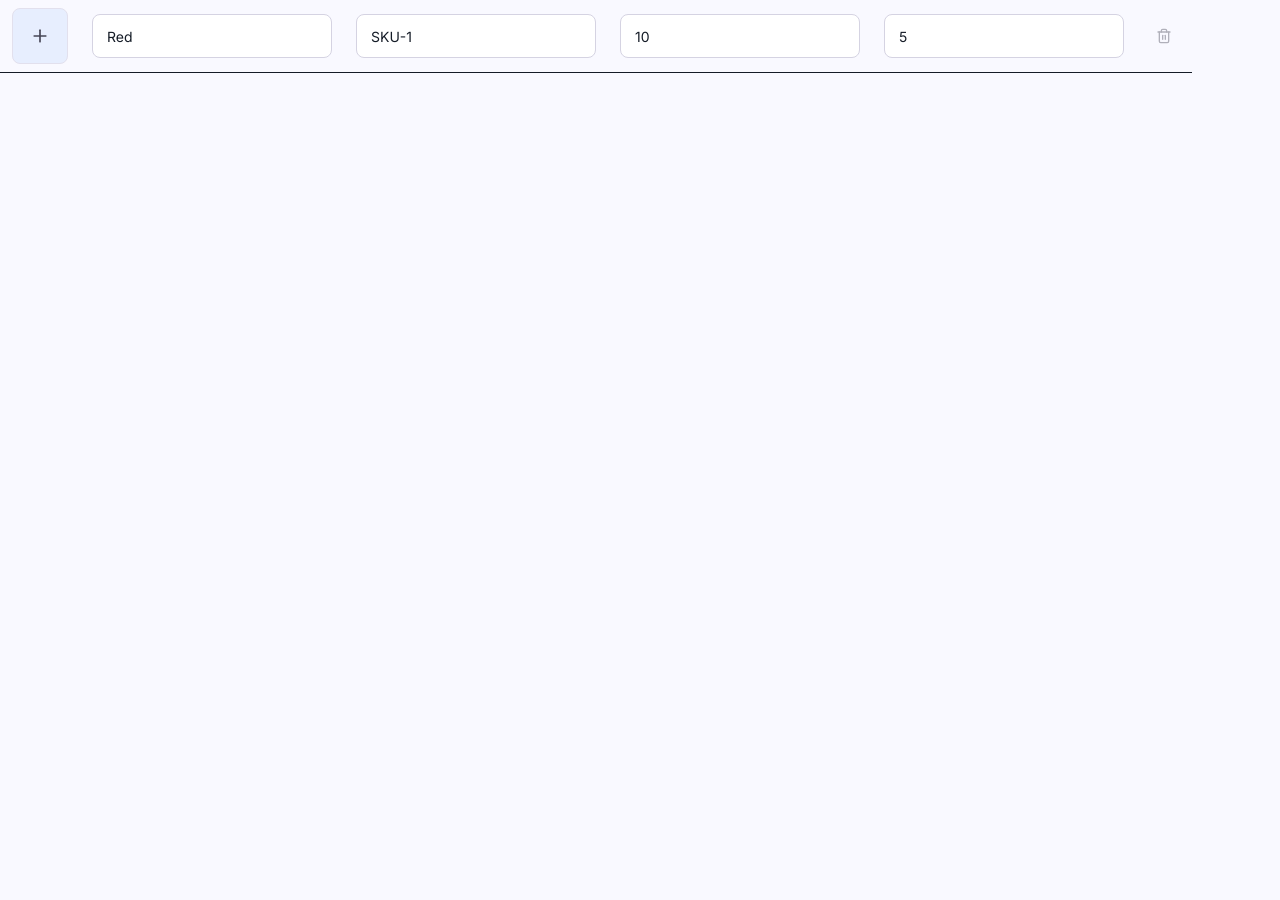
it: VariantRow › opens ImageUploadPopup in create mode and displays upload on creation notice
The image size is (1280, 900).
Click the button named "manage images" at (40, 36), box [12,8,68,64]
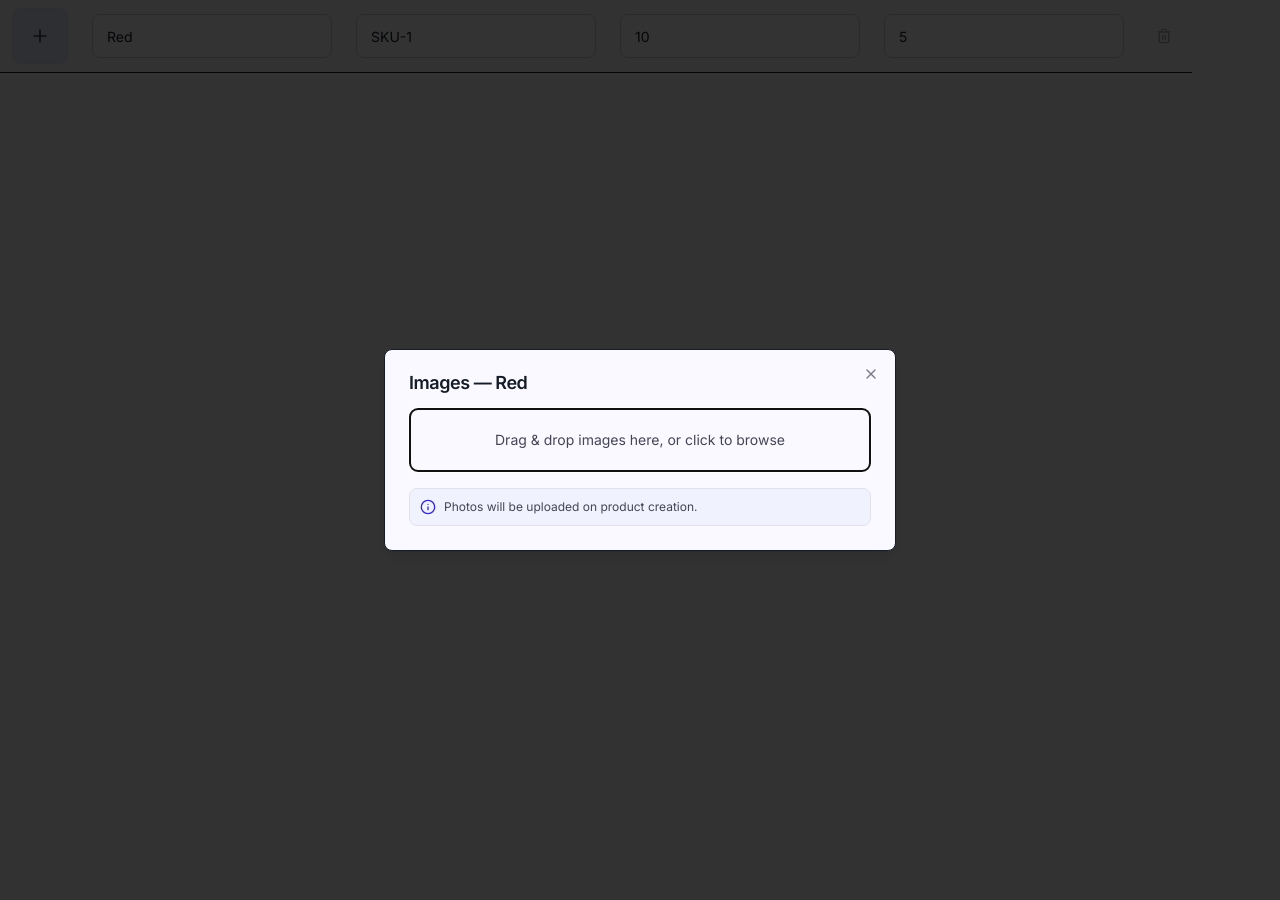
Expected: the text "Photos will be uploaded on product creation." is shown, [444,499,698,515]
